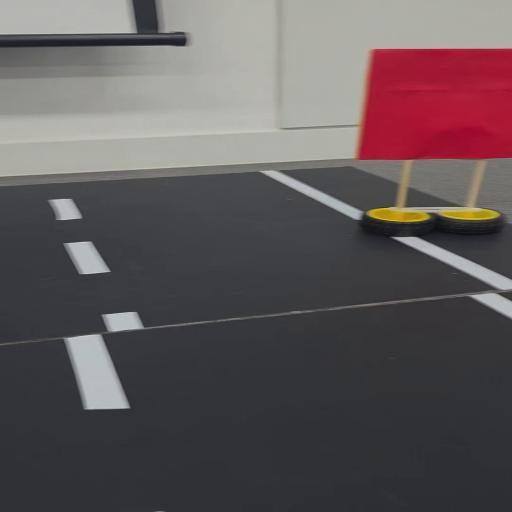Sign_A: (343, 45, 512, 235)
